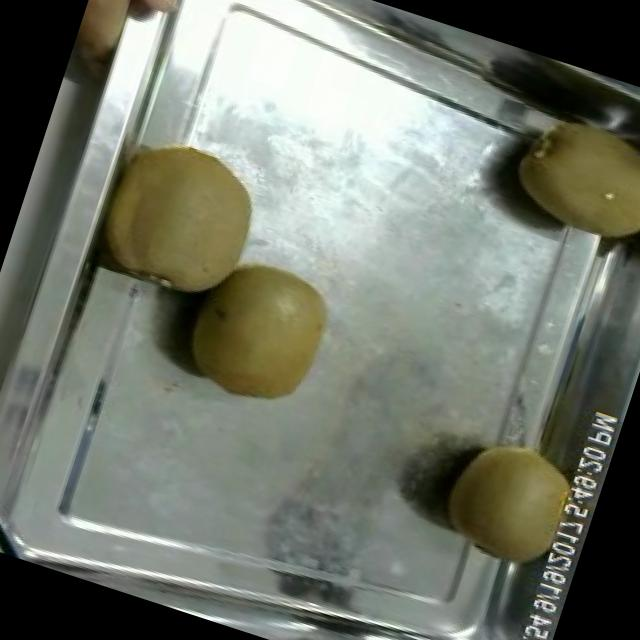Fruit: (85, 116, 282, 313), (165, 235, 351, 424), (424, 419, 602, 586), (488, 89, 640, 265)
